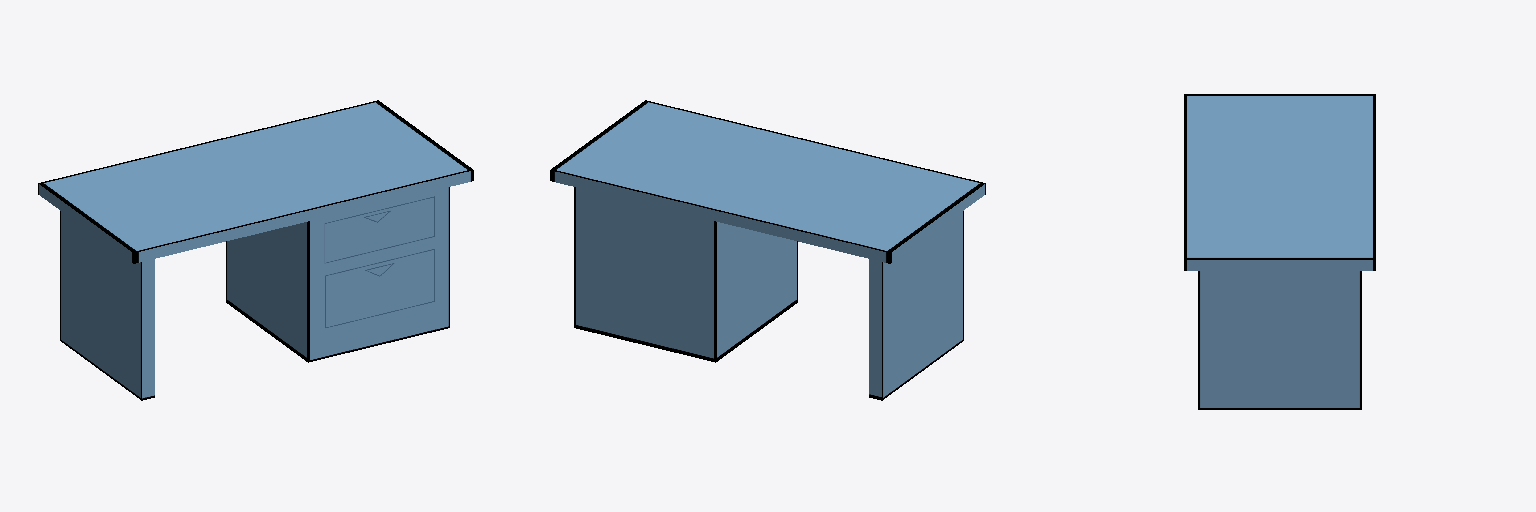
3 renders of one model, left to right at view 1: azimuth 30°, elevation 25°; view 2: azimuth 150°, elevation 25°; view 3: azimuth 270°, elevation 25°, orthographic.
Parts seen in each view (by area): view 1: polySurface18; view 2: polySurface18; view 3: polySurface18.
Boxes of the visible parts, x1=… form: polySurface18: x1=38, y1=100, x2=473, y2=400; polySurface18: x1=550, y1=100, x2=985, y2=400; polySurface18: x1=1184, y1=94, x2=1375, y2=409.
Bounding box in the file's own units: 2.4 × 1.07 × 1.16.
2 materials, 2 textured.